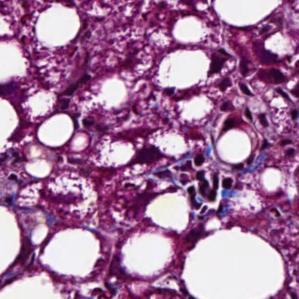inflammation: (161, 151, 226, 211), (210, 73, 262, 116)
